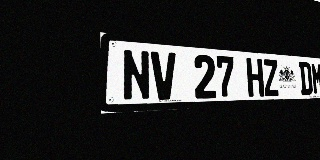2: (194, 54, 216, 99)
7: (215, 56, 236, 98)
D: (298, 62, 313, 95)
H: (246, 58, 264, 97)
M: (311, 62, 320, 95)
N: (122, 49, 151, 101)
V: (151, 51, 177, 100)
Z: (262, 59, 279, 96)
